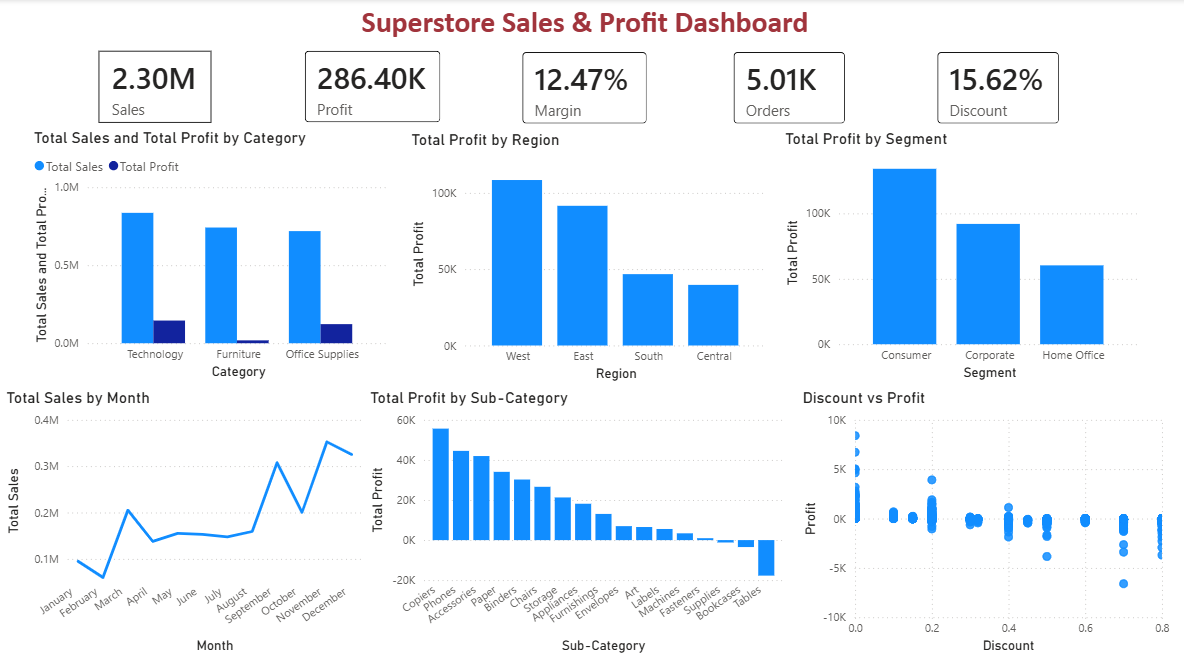

What the dashboard file says about the page in this screenshot:
{"tool":"powerbi","page":{"name":"Page 1","canvas":[1280,720],"ordinal":0},"visuals":[{"type":"cardVisual","fields":{"Data":["superstore.Total Sales"]},"box":[91,39.6,155.8,111],"z":0},{"type":"cardVisual","fields":{"Data":["superstore.Total Profit"]},"box":[314.6,39.6,180.4,111],"z":1000},{"type":"cardVisual","fields":{"Data":["superstore.Profit Margin %"]},"box":[549,40.1,168.1,111],"z":2000},{"type":"cardVisual","fields":{"Data":["superstore.Average Discount"]},"box":[996.2,40.1,165,111],"z":3000},{"type":"cardVisual","fields":{"Data":["superstore.Total Orders"]},"box":[775.7,40.1,154.2,111],"z":4000},{"type":"clusteredColumnChart","fields":{"Category":["superstore.Category"],"Y":["superstore.Total Sales","superstore.Total Profit"]},"box":[33.9,138.3,393.3,276],"z":5000},{"type":"clusteredColumnChart","fields":{"Category":["superstore.Region"],"Y":["superstore.Total Profit"]},"box":[441.1,141.3,393.3,276],"z":6000},{"type":"clusteredColumnChart","fields":{"Category":["superstore.Segment"],"Y":["superstore.Total Profit"]},"box":[843.6,139.8,393.3,276],"z":7000},{"type":"lineChart","fields":{"Y":["superstore.Total Sales"],"Category":["superstore.Order Date.Variation.Date Hierarchy.Year","superstore.Order Date.Variation.Date Hierarchy.Month"]},"box":[4.6,419.5,393.3,291.5],"z":8000},{"type":"clusteredColumnChart","fields":{"Category":["superstore.Sub-Category"],"Y":["superstore.Total Profit"]},"box":[396.3,419.5,454.9,291.5],"z":9000},{"type":"scatterChart","title":"Discount vs Profit","fields":{"X":["superstore.Discount"],"Y":["superstore.Profit"]},"box":[862.1,419.5,405.6,291.5],"z":10000},{"type":"textbox","box":[370.1,0,524.3,55.5],"z":11000}]}

Visuals, with their boxes in screenshot pixels (x1, y1, x2, y2), scaled from the page's 1280x720 canvas onto the 1184x665 screenshot:
cardVisual - superstore.Total Sales: [84,37,228,139]
cardVisual - superstore.Total Profit: [291,37,458,139]
cardVisual - superstore.Profit Margin %: [508,37,663,140]
cardVisual - superstore.Average Discount: [921,37,1074,140]
cardVisual - superstore.Total Orders: [718,37,860,140]
clusteredColumnChart - superstore.Category x superstore.Total Sales: [31,128,395,383]
clusteredColumnChart - superstore.Region x superstore.Total Profit: [408,131,772,385]
clusteredColumnChart - superstore.Segment x superstore.Total Profit: [780,129,1144,384]
lineChart - superstore.Total Sales x superstore.Order Date.Variation.Date Hierarchy.Year: [4,387,368,657]
clusteredColumnChart - superstore.Sub-Category x superstore.Total Profit: [367,387,787,657]
"Discount vs Profit" scatterChart: [797,387,1173,657]
textbox: [342,0,827,51]
